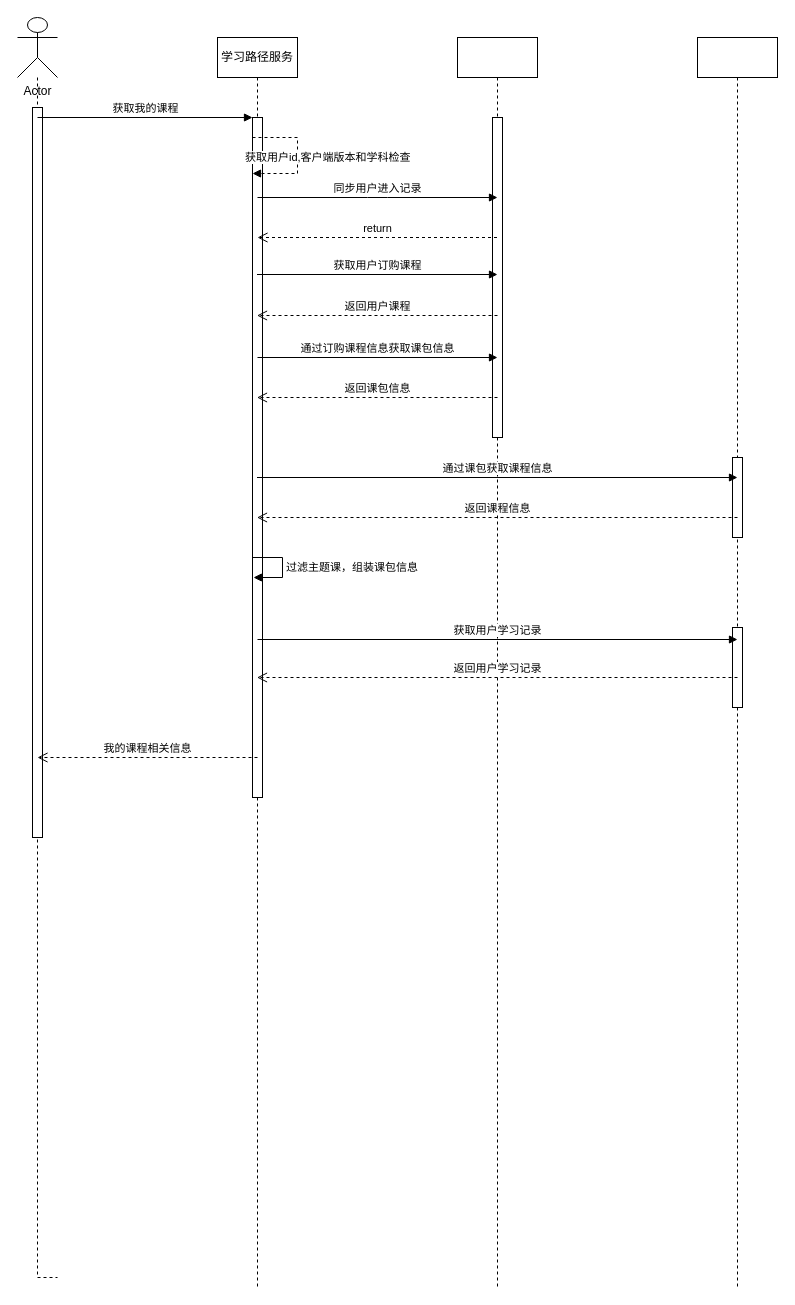
This 795x1305 diagram has some shape labels left out. The centre of each missing label's shape, as x and y in pixels:
"排课系统" goes at point 737,662.
"用户服务" goes at point 497,662.
